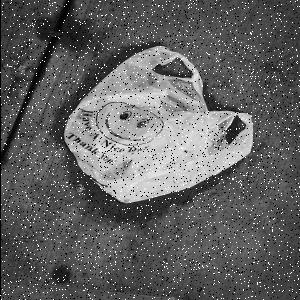Trash: (65, 47, 255, 205)
